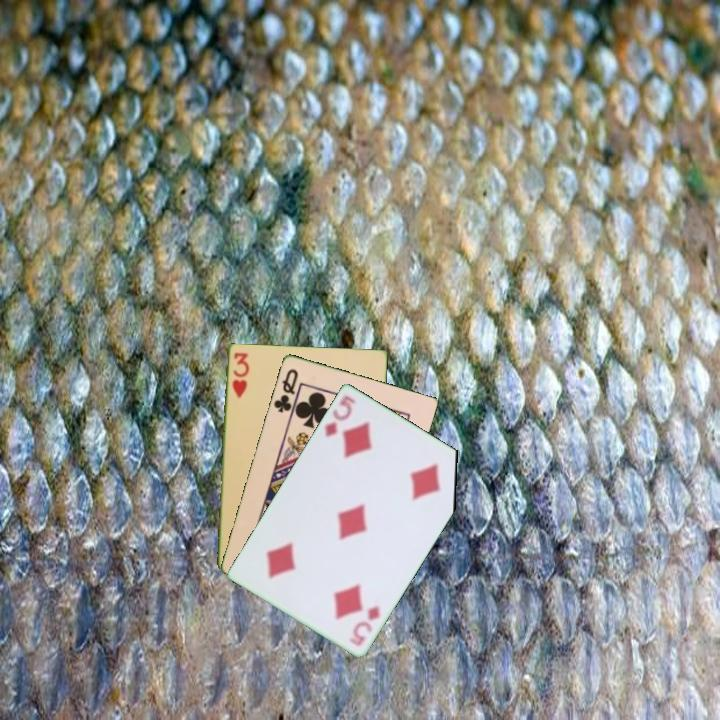3h: (228, 348, 251, 401)
5d: (321, 391, 358, 440), (345, 602, 383, 648)
Qc: (270, 365, 303, 419)
